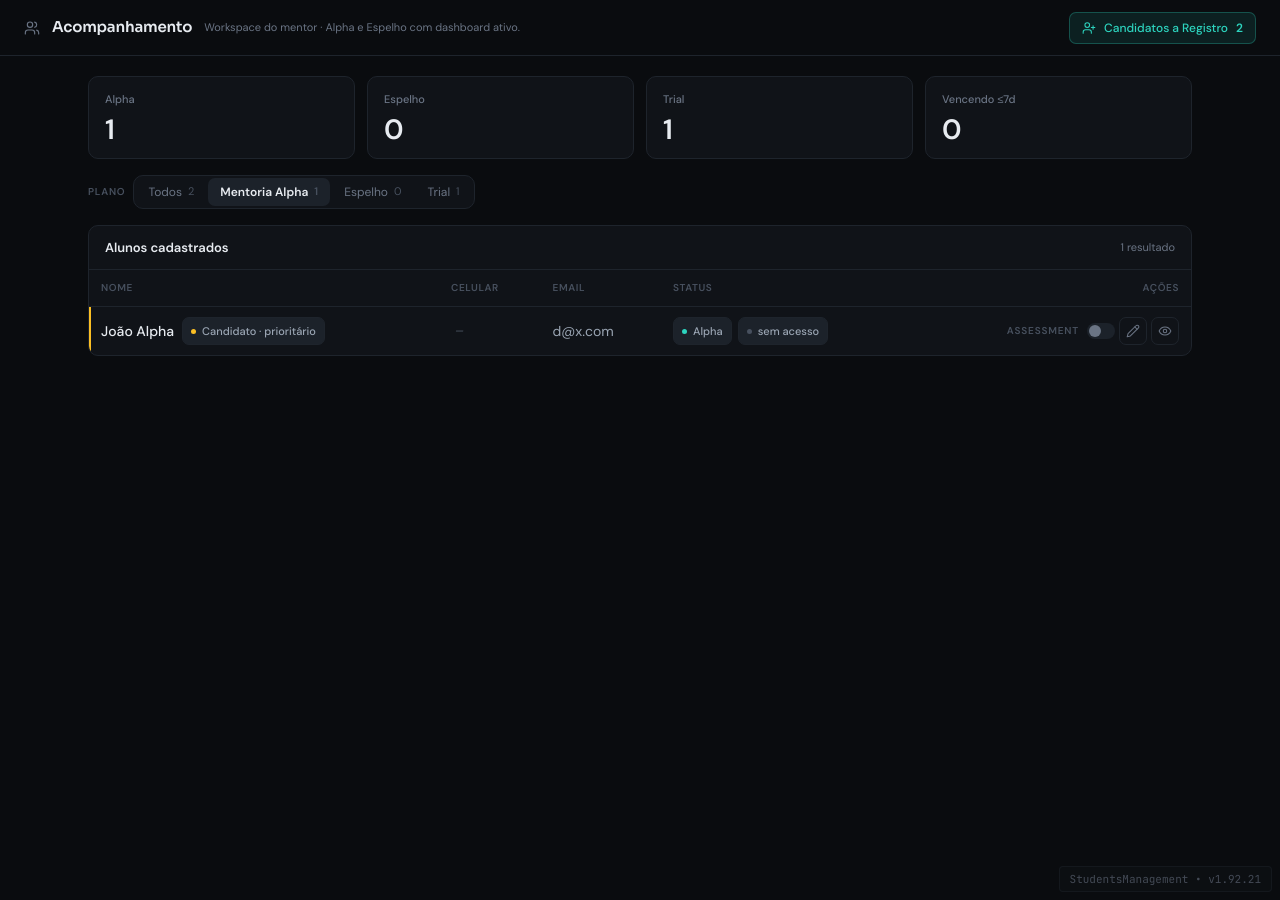
StudentsManagement — 3 buckets (Alpha / Espelho / Trial) › chip Trial filtra para trial-alpha + trial-espelho
This screenshot has width=1280, height=900.
Click the button "Trial 1".
click(444, 192)  # box [416, 178, 472, 206]
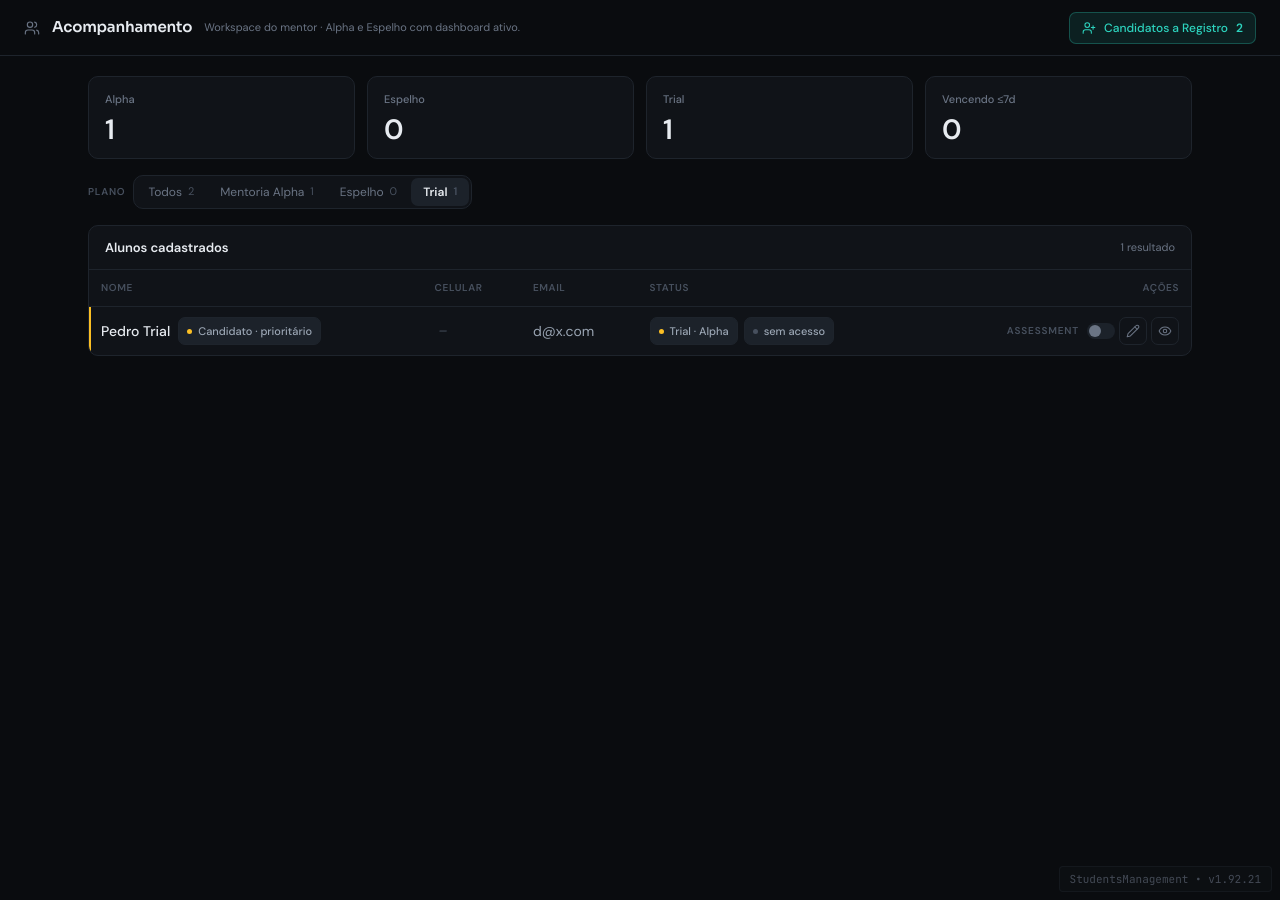
Check: the text "João Alpha" is gone
Check: the text "Pedro Trial" is shown, box [101, 321, 170, 341]
